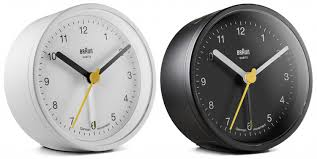alarm_clock: (0, 0, 312, 153), (0, 0, 306, 153), (163, 0, 306, 153), (163, 11, 306, 153)
